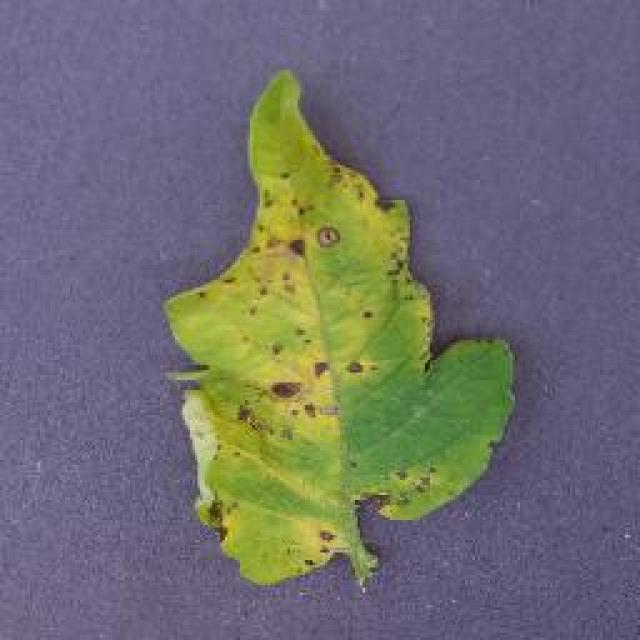Tomato___Septoria_leaf_spot: (165, 70, 512, 582)
